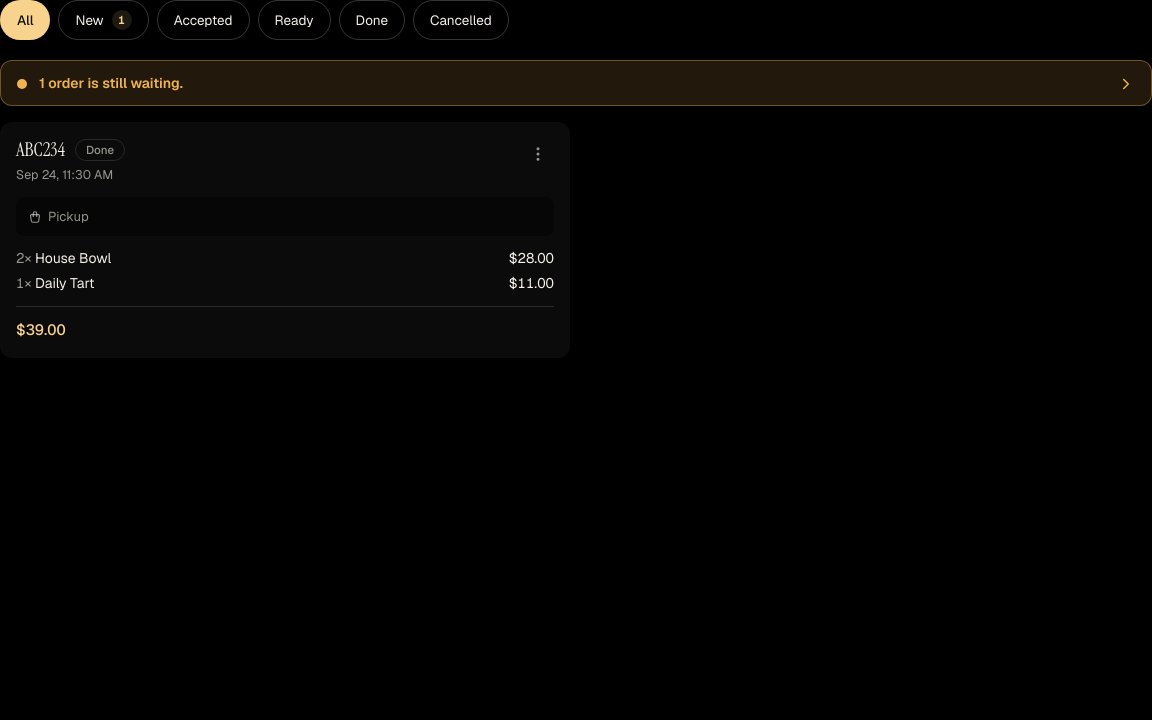
Scenario: OrdersPage › deletes an order for good, after asking
This screenshot has width=1152, height=720.
Click the button named "More for order ABC234".
click(538, 154)  # box [522, 138, 554, 170]
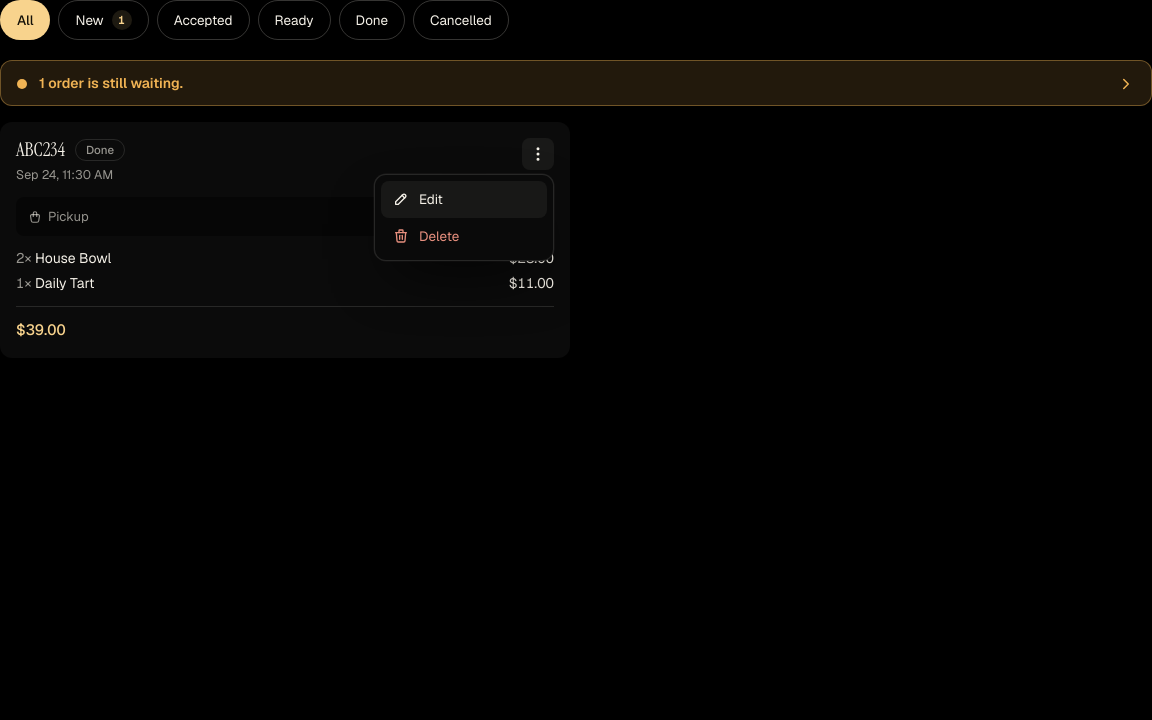
Click the menu item with aria-label "Delete order ABC234".
click(464, 236)  # box [381, 218, 547, 254]
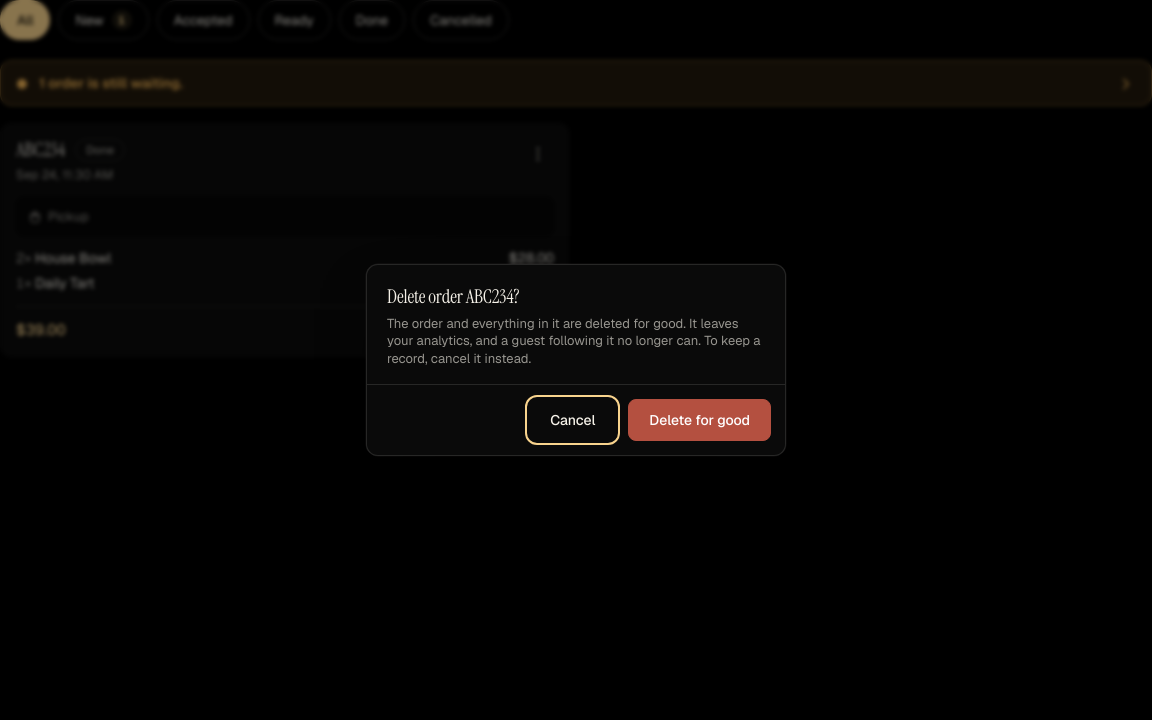
Now the text "deleted for good" is shown, box [387, 315, 760, 367]
Click the button "Delete for good".
click(700, 420)  # box [628, 399, 771, 441]
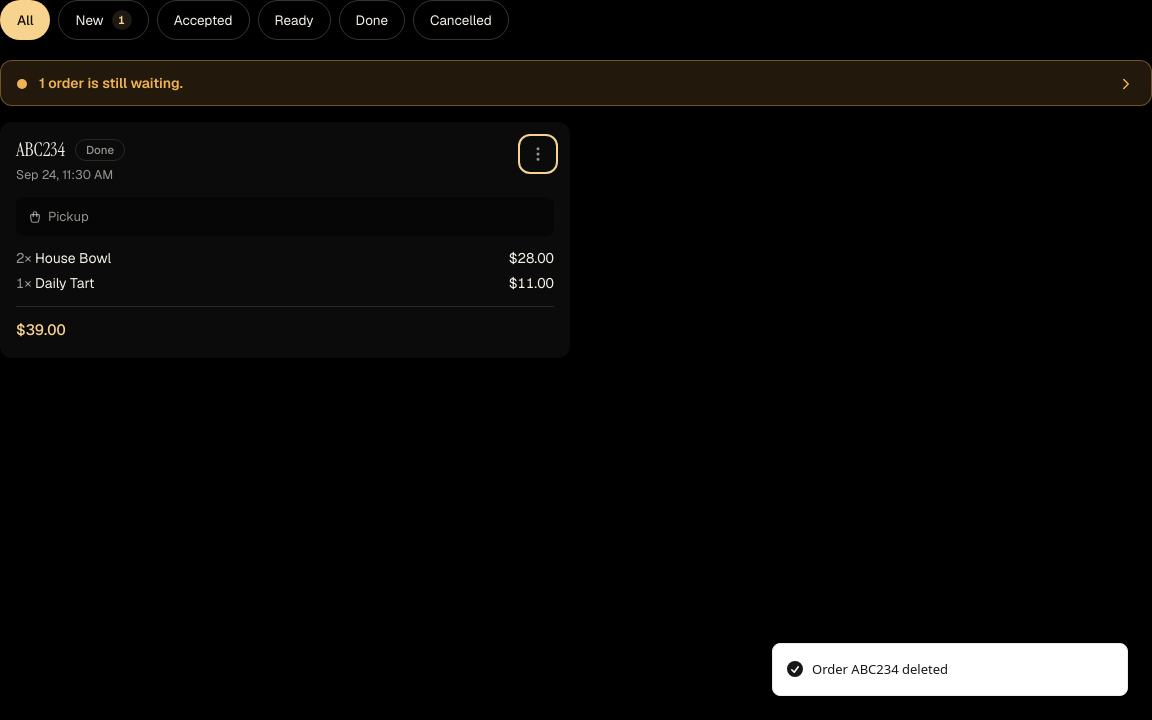
Now the text "Order ABC234 deleted" is shown, box [812, 660, 948, 679]
